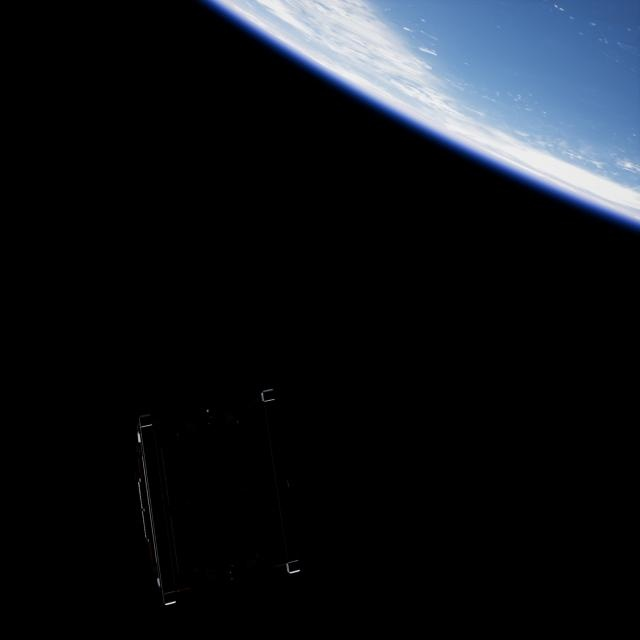satellite: (122, 380, 322, 619)
